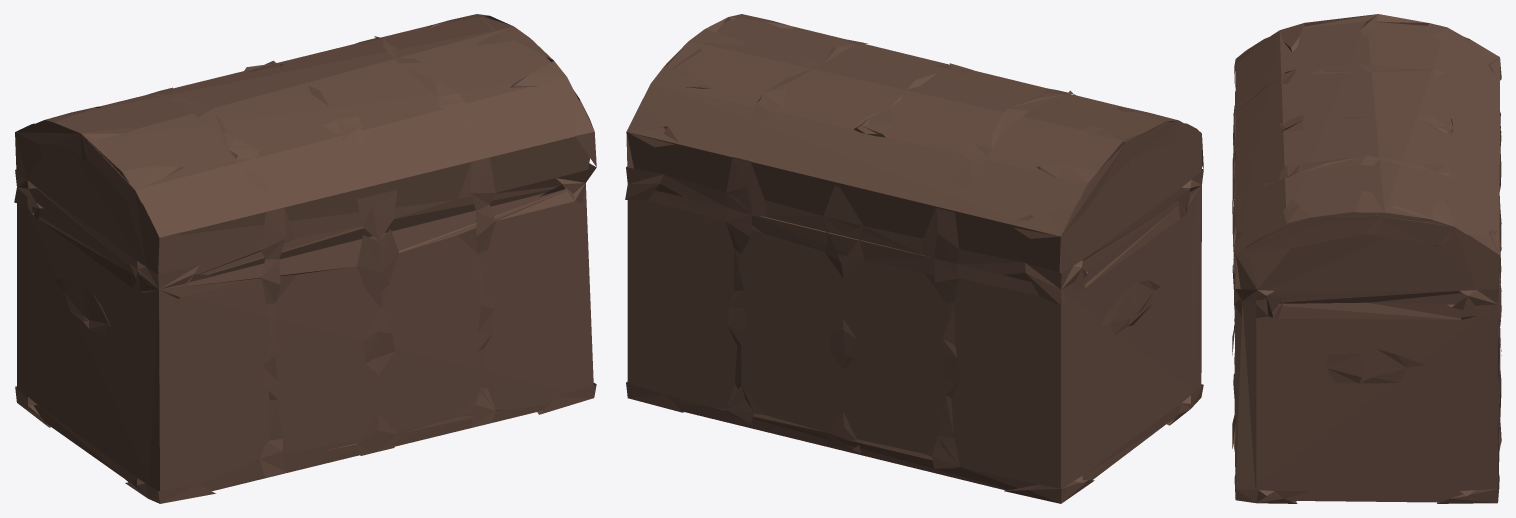
File: treasure-chest-lod1.glb
The picture shows the model from 3 angles, left to right: view 1: azimuth 30°, elevation 25°; view 2: azimuth 150°, elevation 25°; view 3: azimuth 270°, elevation 25°; orthographic projection. The views are drawn at different scales.
Bounding box in the file's own units: 0.9276 × 0.6171 × 0.5148.
